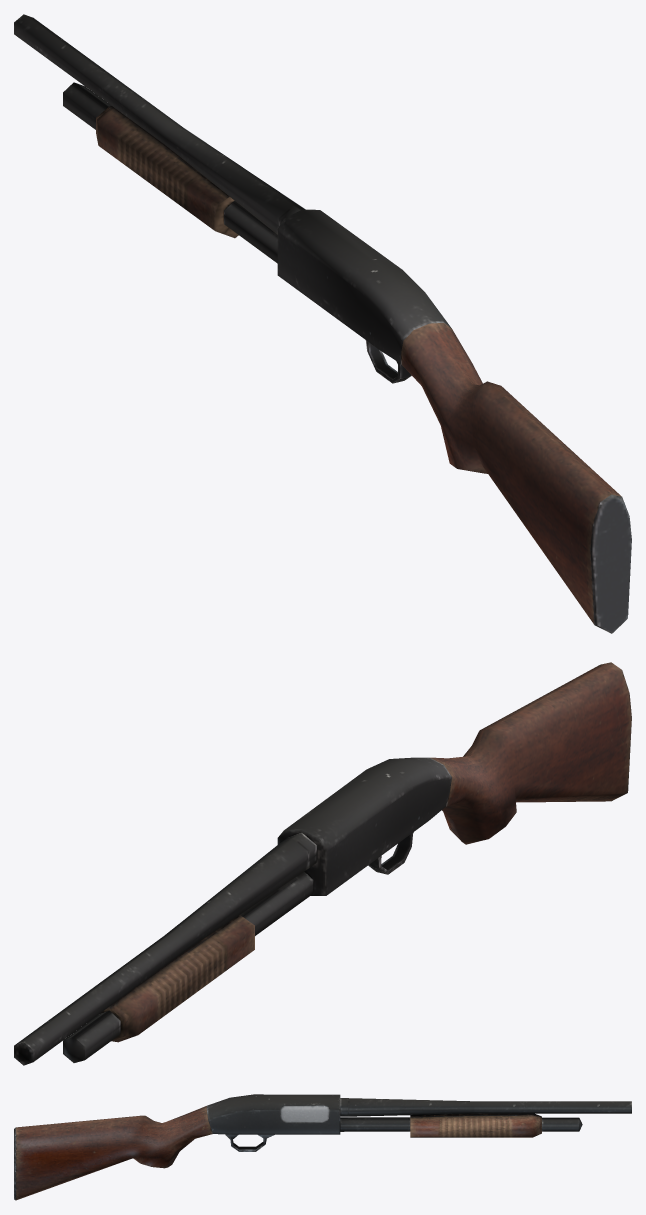
The model's file is Mossberg_Wood_Black.fbx.
3 renders of one model, top to bottom at view 1: azimuth 30°, elevation 25°; view 2: azimuth 150°, elevation 25°; view 3: azimuth 270°, elevation 25°, orthographic. The views are drawn at different scales.
Visible parts, largest first — view 1: Mossberg_Wood_Black; view 2: Mossberg_Wood_Black; view 3: Mossberg_Wood_Black.
Part boxes in pixels (bbox=[...]): Mossberg_Wood_Black: bbox=[14, 14, 631, 633]; Mossberg_Wood_Black: bbox=[14, 662, 631, 1065]; Mossberg_Wood_Black: bbox=[14, 1094, 631, 1200].
Bounding box in the file's own units: 0.0274 × 0.5749 × 0.1064.
